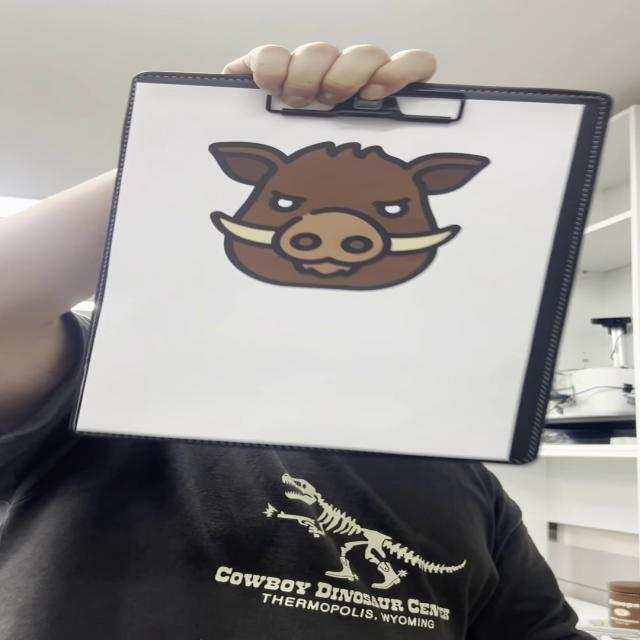animal: (210, 142, 491, 293)
